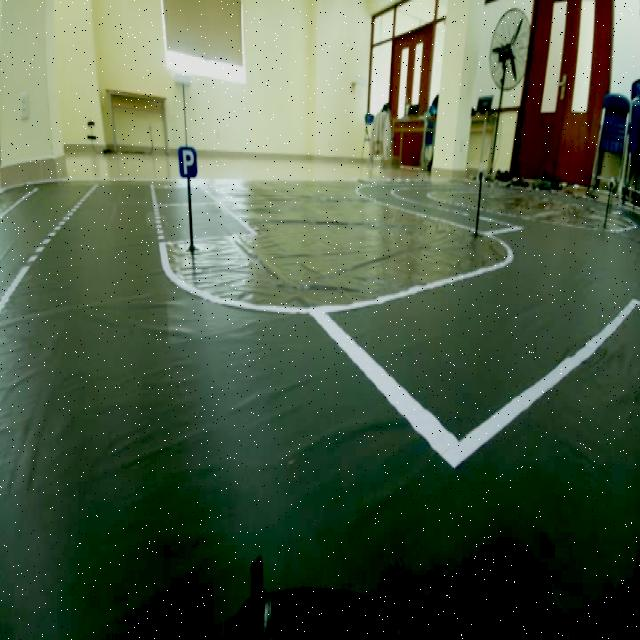parking: (173, 139, 202, 183)
